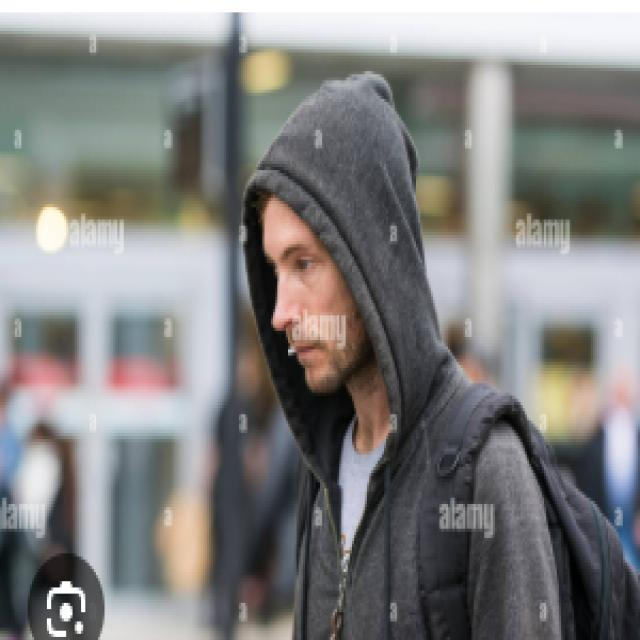4_capucha: (243, 70, 462, 487)
